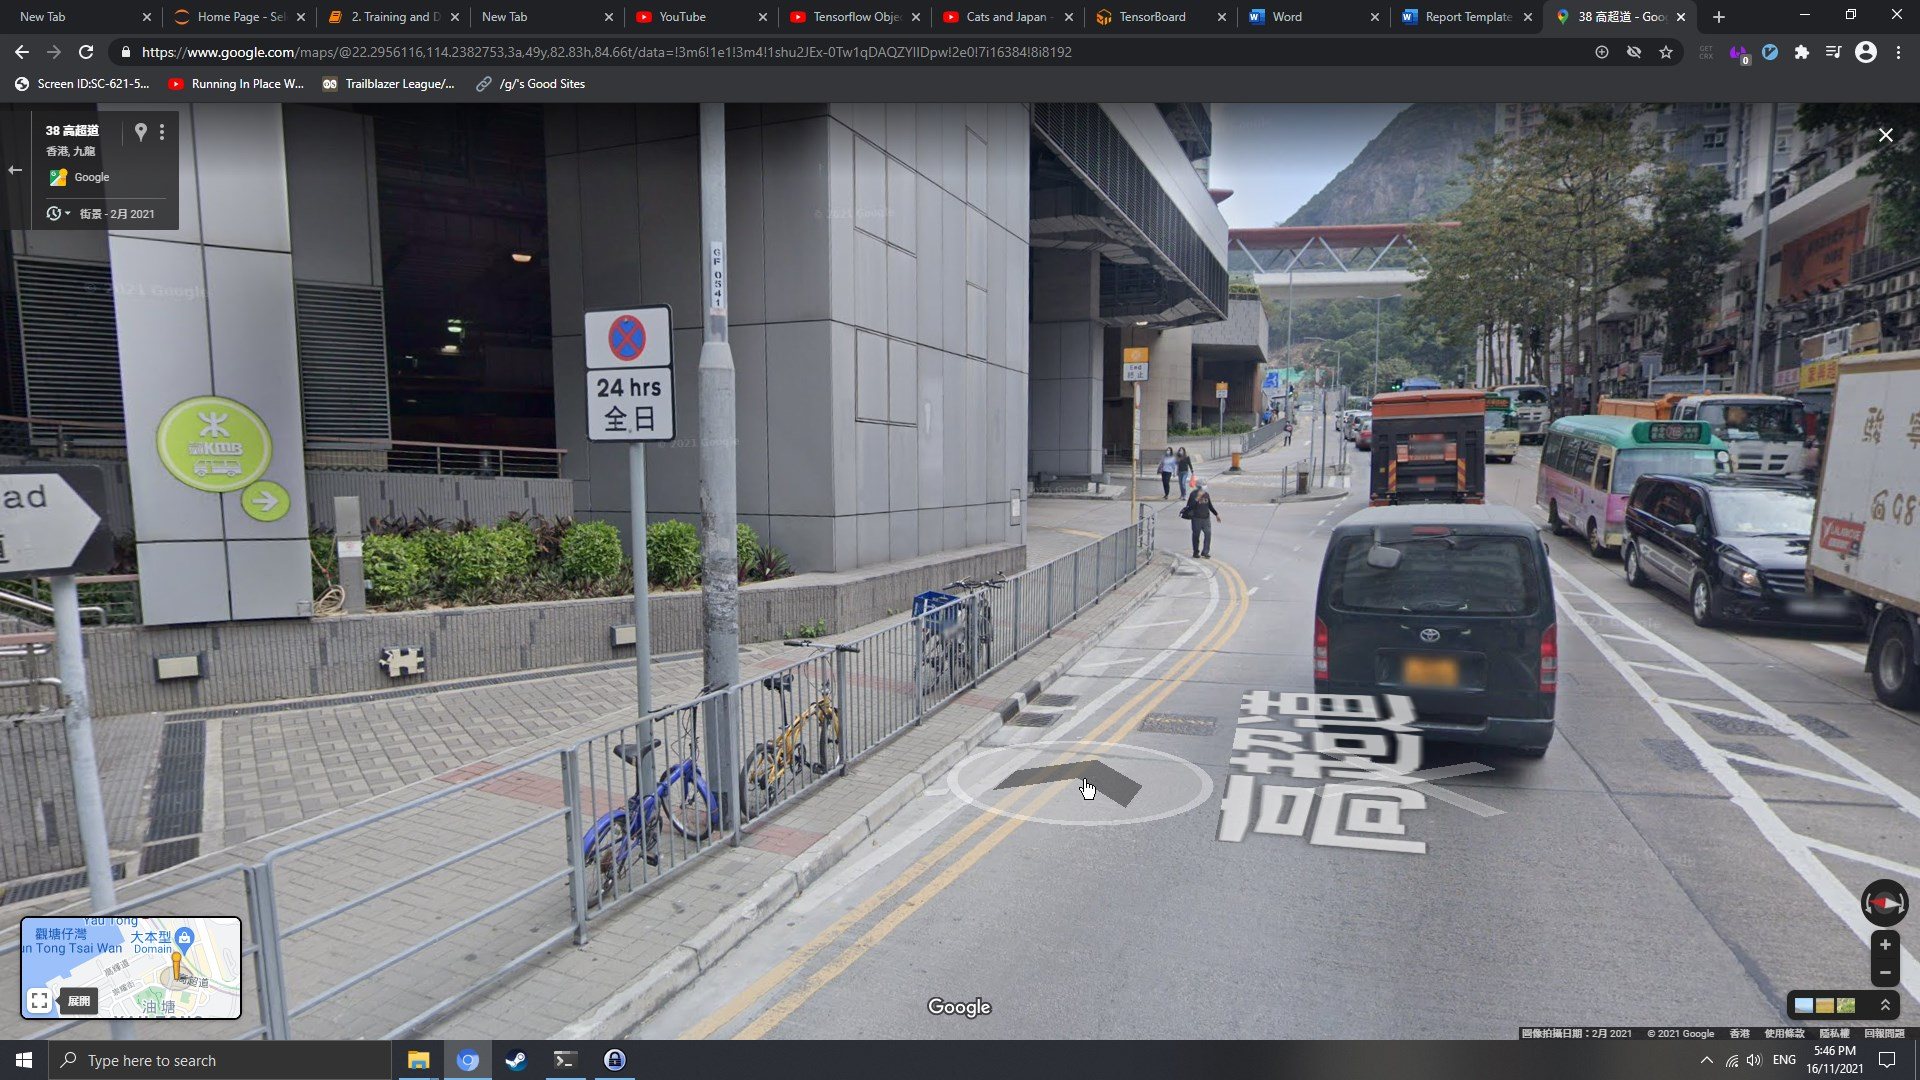NoStop: (608, 315, 647, 361)
